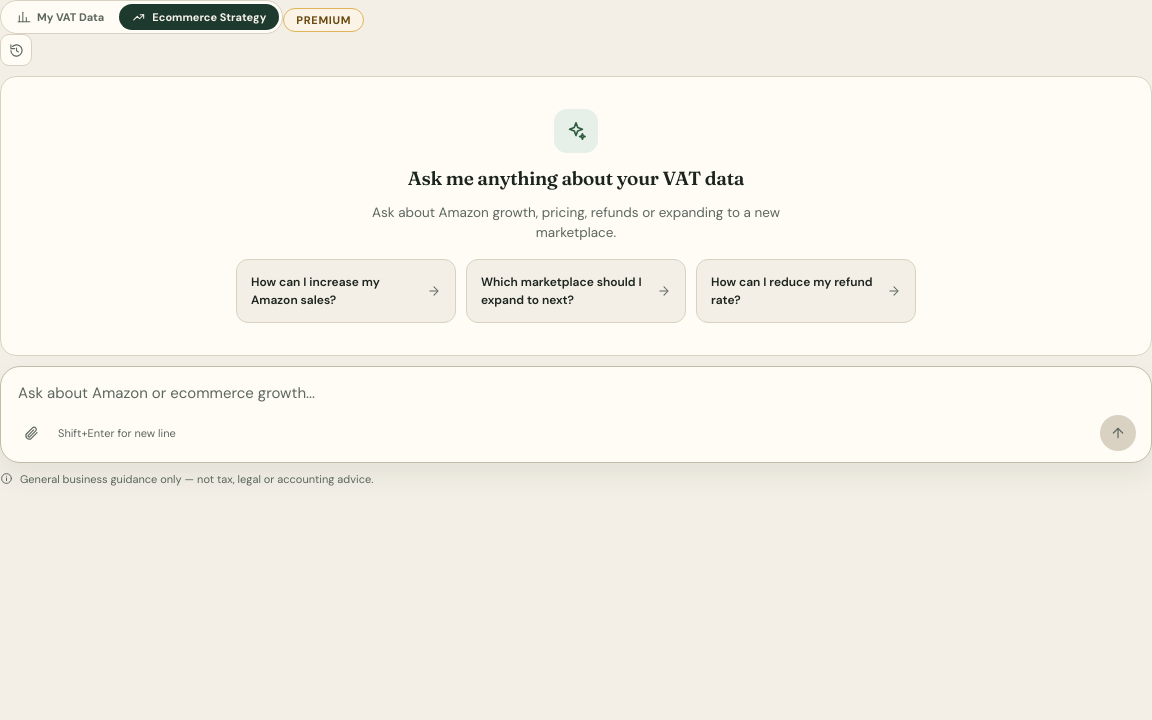
Scenario: AnalystPage › conversation history › lists saved conversations in the drawer
This screenshot has width=1152, height=720.
Click the button named "History": (16, 50) [0, 34, 32, 66]
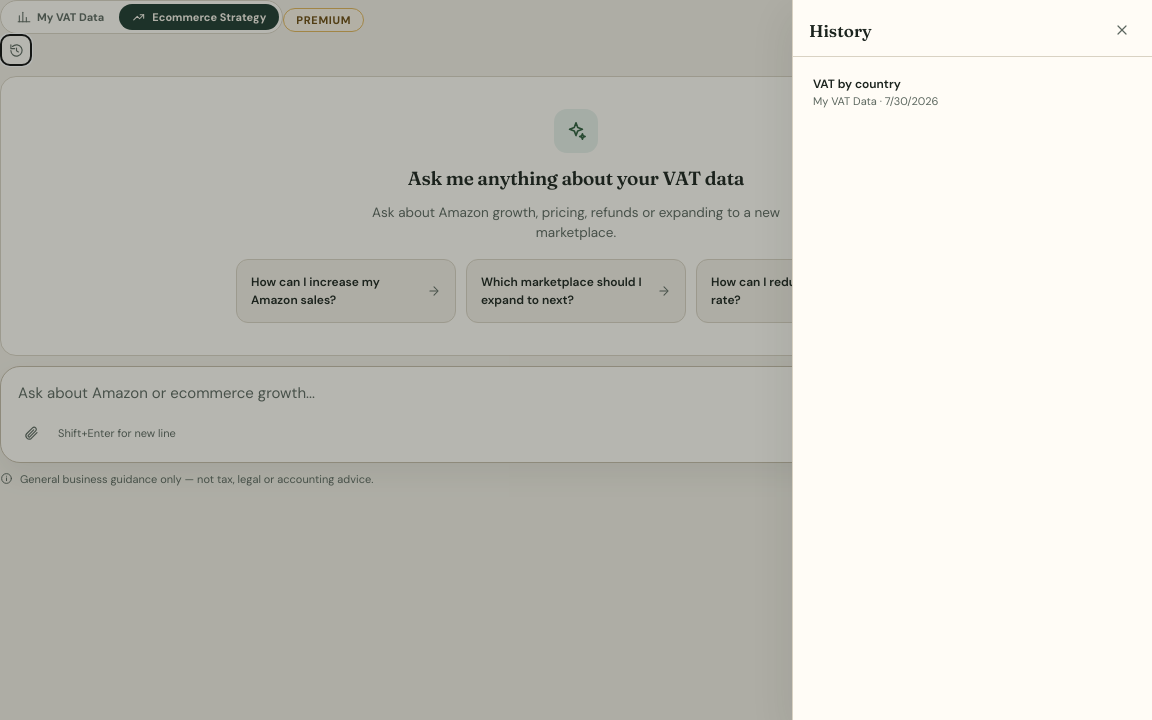
Expected: the dialog "History VAT by country My VAT Data · 7/30/2026" is shown, [792, 0, 1151, 719]
Expected: the text "VAT by country" is shown, [813, 76, 901, 92]
